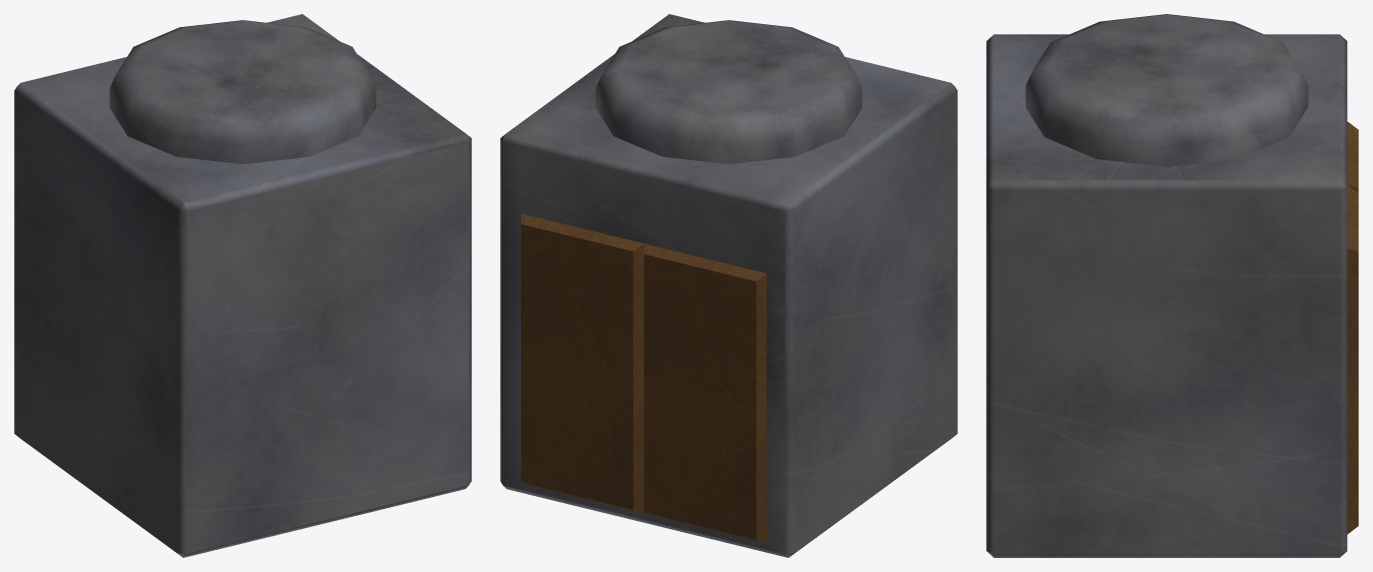
File: HeistElevator.fbx
The picture shows the model from 3 angles, left to right: view 1: azimuth 30°, elevation 25°; view 2: azimuth 150°, elevation 25°; view 3: azimuth 270°, elevation 25°; orthographic projection. The views are drawn at different scales.
Visible parts, largest first — view 1: Elevator; view 2: Elevator; view 3: Elevator.
Boxes of the visible parts, <box> form: Elevator: <box>14,14,471,557</box>; Elevator: <box>500,14,957,557</box>; Elevator: <box>986,14,1358,557</box>.
Size of the model in its own units: 5.65 by 7.26 by 5.83.
Materials: 2 (2 with a texture image).
